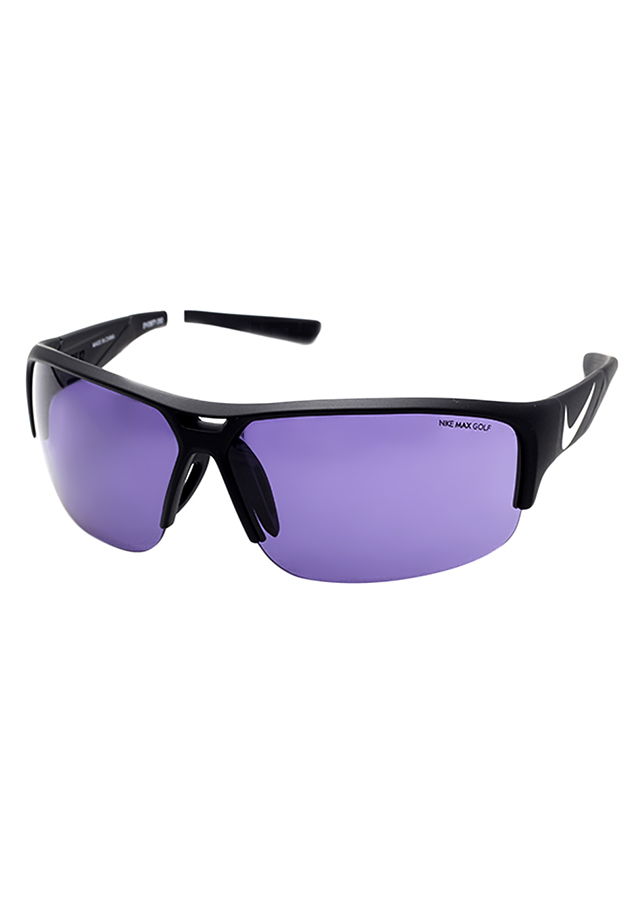Nike: (554, 378, 602, 452)
